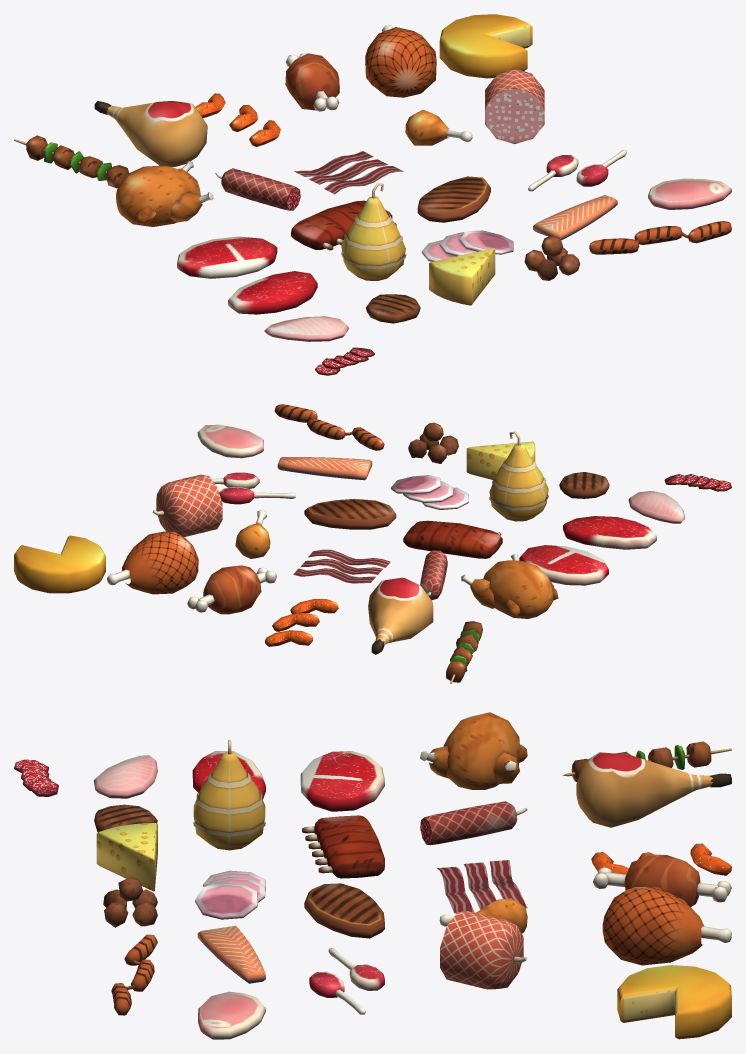
The model's file is meat_pack.glb.
3 views of the same model, one above another, from view 1: azimuth 30°, elevation 25°; view 2: azimuth 150°, elevation 25°; view 3: azimuth 270°, elevation 25° (orthographic). The views are drawn at different scales.
Parts seen in each view (by area): view 1: CheeseWheel, Prosciutto, RoastChicken, Ham, Provolone, Mortadella, TBoneSteak, SwissCheese, RawSteak, MeatOnBone, GrilledSteak, BbqRibs (+14 smaller); view 2: CheeseWheel, Ham, RoastChicken, Prosciutto, Mortadella, Provolone, BbqRibs, MeatOnBone, TBoneSteak, RawSteak, GrilledSteak, Bacon (+14 smaller); view 3: Prosciutto, Ham, CheeseWheel, RoastChicken, Mortadella, Provolone, TBoneSteak, BbqRibs, MeatOnBone, GrilledSteak, SwissCheese, Salami (+14 smaller).
Part boxes in pixels (box(x1,y1,x2,y2)): CheeseWheel: box(439, 14, 532, 78); Prosciutto: box(94, 101, 207, 166); RoastChicken: box(116, 161, 213, 226); Ham: box(365, 25, 436, 97); Provolone: box(341, 182, 406, 280); Mortadella: box(485, 68, 544, 143); TBoneSteak: box(177, 236, 277, 278); SwissCheese: box(429, 248, 495, 305); RawSteak: box(228, 271, 317, 314); MeatOnBone: box(285, 53, 339, 111); GrilledSteak: box(417, 176, 490, 222); BbqRibs: box(291, 200, 396, 250); CheeseWheel: box(14, 535, 105, 593); Ham: box(107, 531, 198, 594); RoastChicken: box(461, 553, 558, 618); Prosciutto: box(368, 577, 433, 654); Mortadella: box(152, 474, 222, 536); Provolone: box(489, 431, 548, 521); BbqRibs: box(403, 520, 502, 558); MeatOnBone: box(187, 565, 276, 614); TBoneSteak: box(519, 545, 608, 585); RawSteak: box(563, 516, 656, 549); GrilledSteak: box(304, 498, 396, 529); Bacon: box(293, 549, 390, 583); Prosciutto: box(576, 752, 731, 827); Ham: box(602, 887, 731, 965); CheeseWheel: box(617, 965, 731, 1039); RoastChicken: box(420, 712, 527, 789); Mortadella: box(440, 911, 527, 989); Provolone: box(193, 739, 265, 850); TBoneSteak: box(300, 751, 384, 811); BbqRibs: box(302, 815, 384, 878); MeatOnBone: box(593, 854, 731, 906); GrilledSteak: box(304, 883, 384, 938); SwissCheese: box(96, 823, 157, 891); Salami: box(420, 801, 527, 845).
Bounding box in the file's own units: 2.28 × 0.4004 × 2.47.
3 materials, 3 textured.
